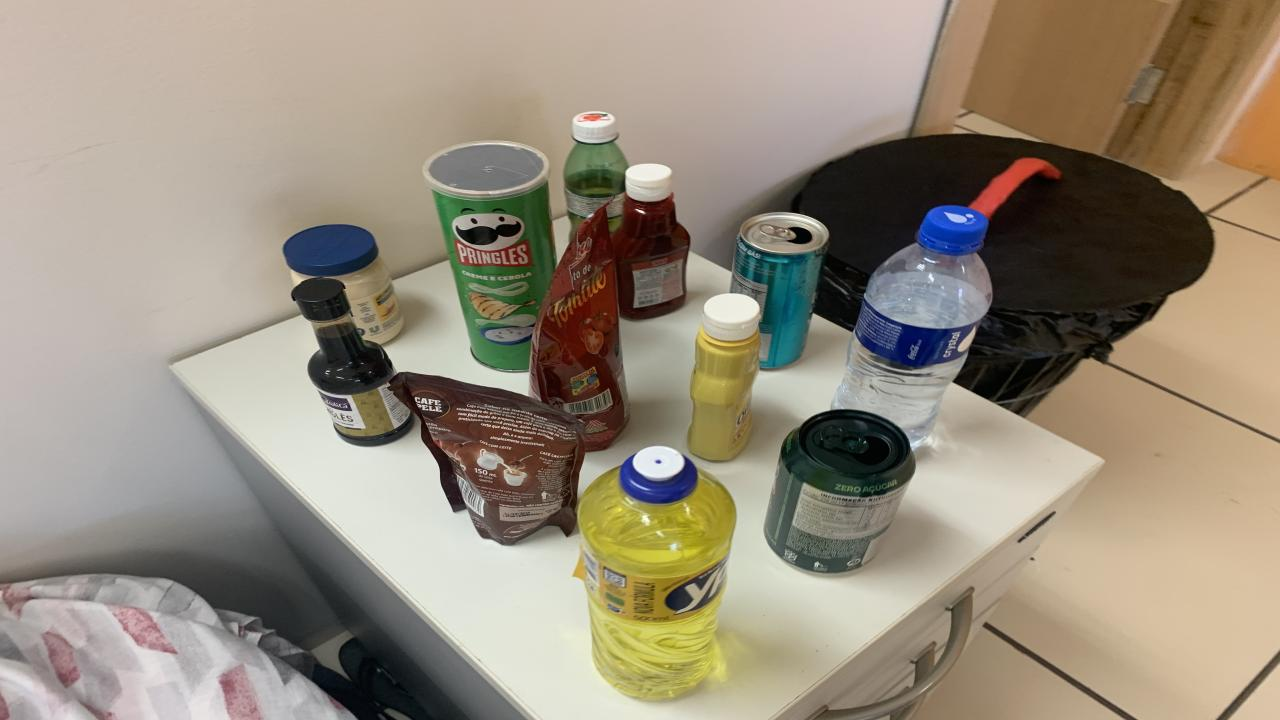Coffee-Pantry_Items: (390, 371, 585, 546)
Detergent-Cleanup_Items: (578, 446, 735, 699)
English_Sauce-Pantry_Items: (292, 278, 412, 446)
Guarana-Drinks: (562, 111, 628, 238), (658, 231, 660, 234)
Guarana_Can-Drinks: (765, 411, 915, 574)
Ketchup-Pantry_Items: (612, 163, 690, 319)
Mayonnaise-Pantry_Items: (282, 225, 402, 345)
Mustard-Pantry_Items: (688, 292, 760, 461)
Pringles-Snacks: (422, 141, 555, 373)
Tea-Drinks: (730, 212, 830, 369)
Water_Bottle-Drinks: (832, 204, 992, 448)
